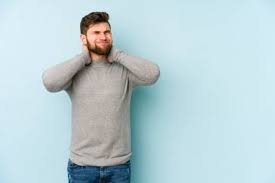white_male: (84, 16, 123, 62)
